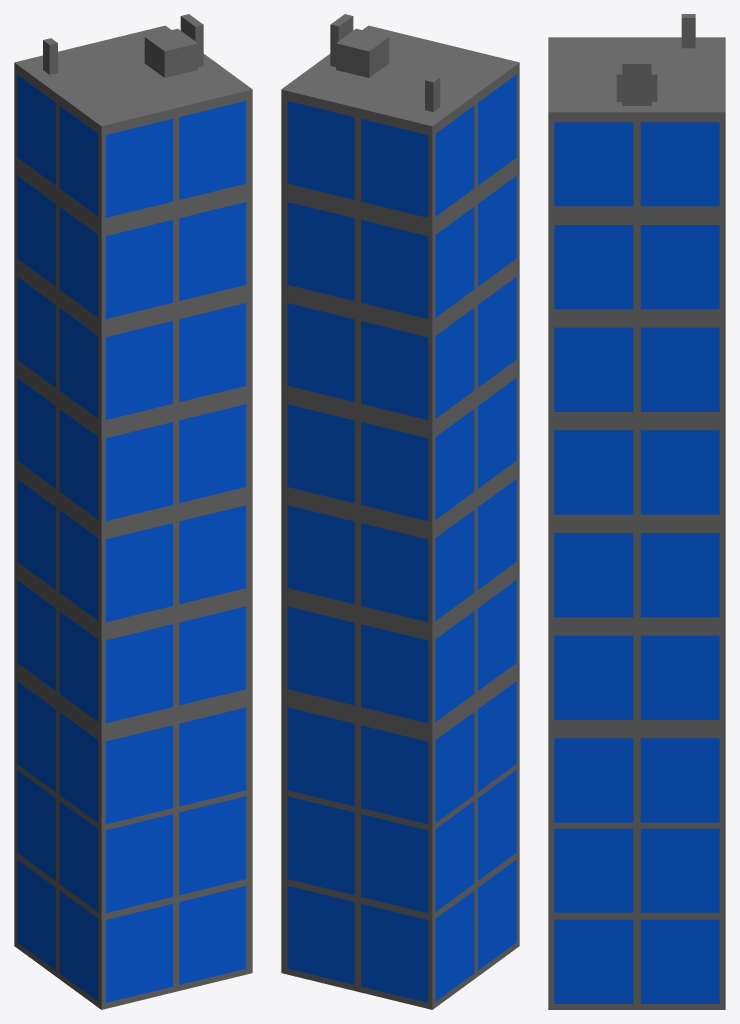
The model's file is buildingtype-a-001.fbx.
3 renders of one model, left to right at view 1: azimuth 30°, elevation 25°; view 2: azimuth 150°, elevation 25°; view 3: azimuth 270°, elevation 25°, orthographic.
Parts seen in each view (by area): view 1: Box007; view 2: Box007; view 3: Box007.
Boxes of the visible parts, bbox=[...] form: Box007: bbox=[14, 14, 252, 1009]; Box007: bbox=[281, 14, 519, 1009]; Box007: bbox=[548, 14, 725, 1009].
Size of the model in its own units: 9010 by 52597 by 9010.
